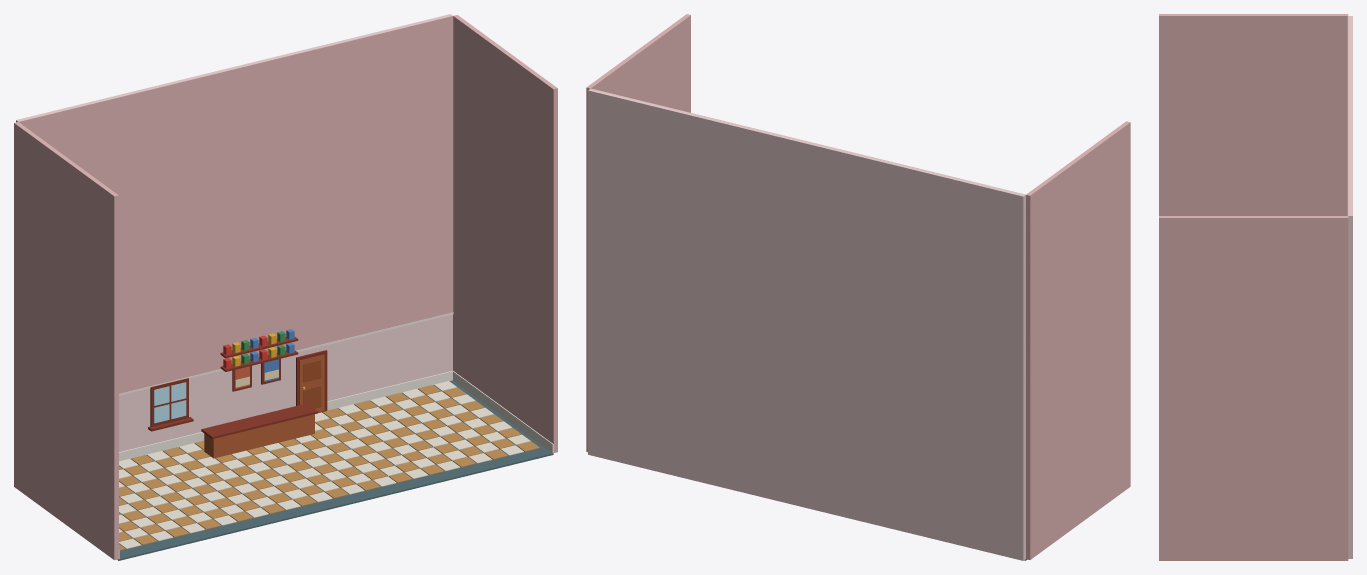
Rendered from room_rosa_shop.glb.
3 views of the same model, side by side, from view 1: azimuth 30°, elevation 25°; view 2: azimuth 150°, elevation 25°; view 3: azimuth 270°, elevation 25° (orthographic). The views are drawn at different scales.
Visible parts, largest first — view 1: room; view 2: room; view 3: room.
Part boxes in pixels (x1,y1,x2,y2): room: [14, 14, 557, 560]; room: [586, 14, 1130, 560]; room: [1159, 14, 1352, 560].
Bounding box in the file's own units: 30.6 × 24.11 × 12.3.
